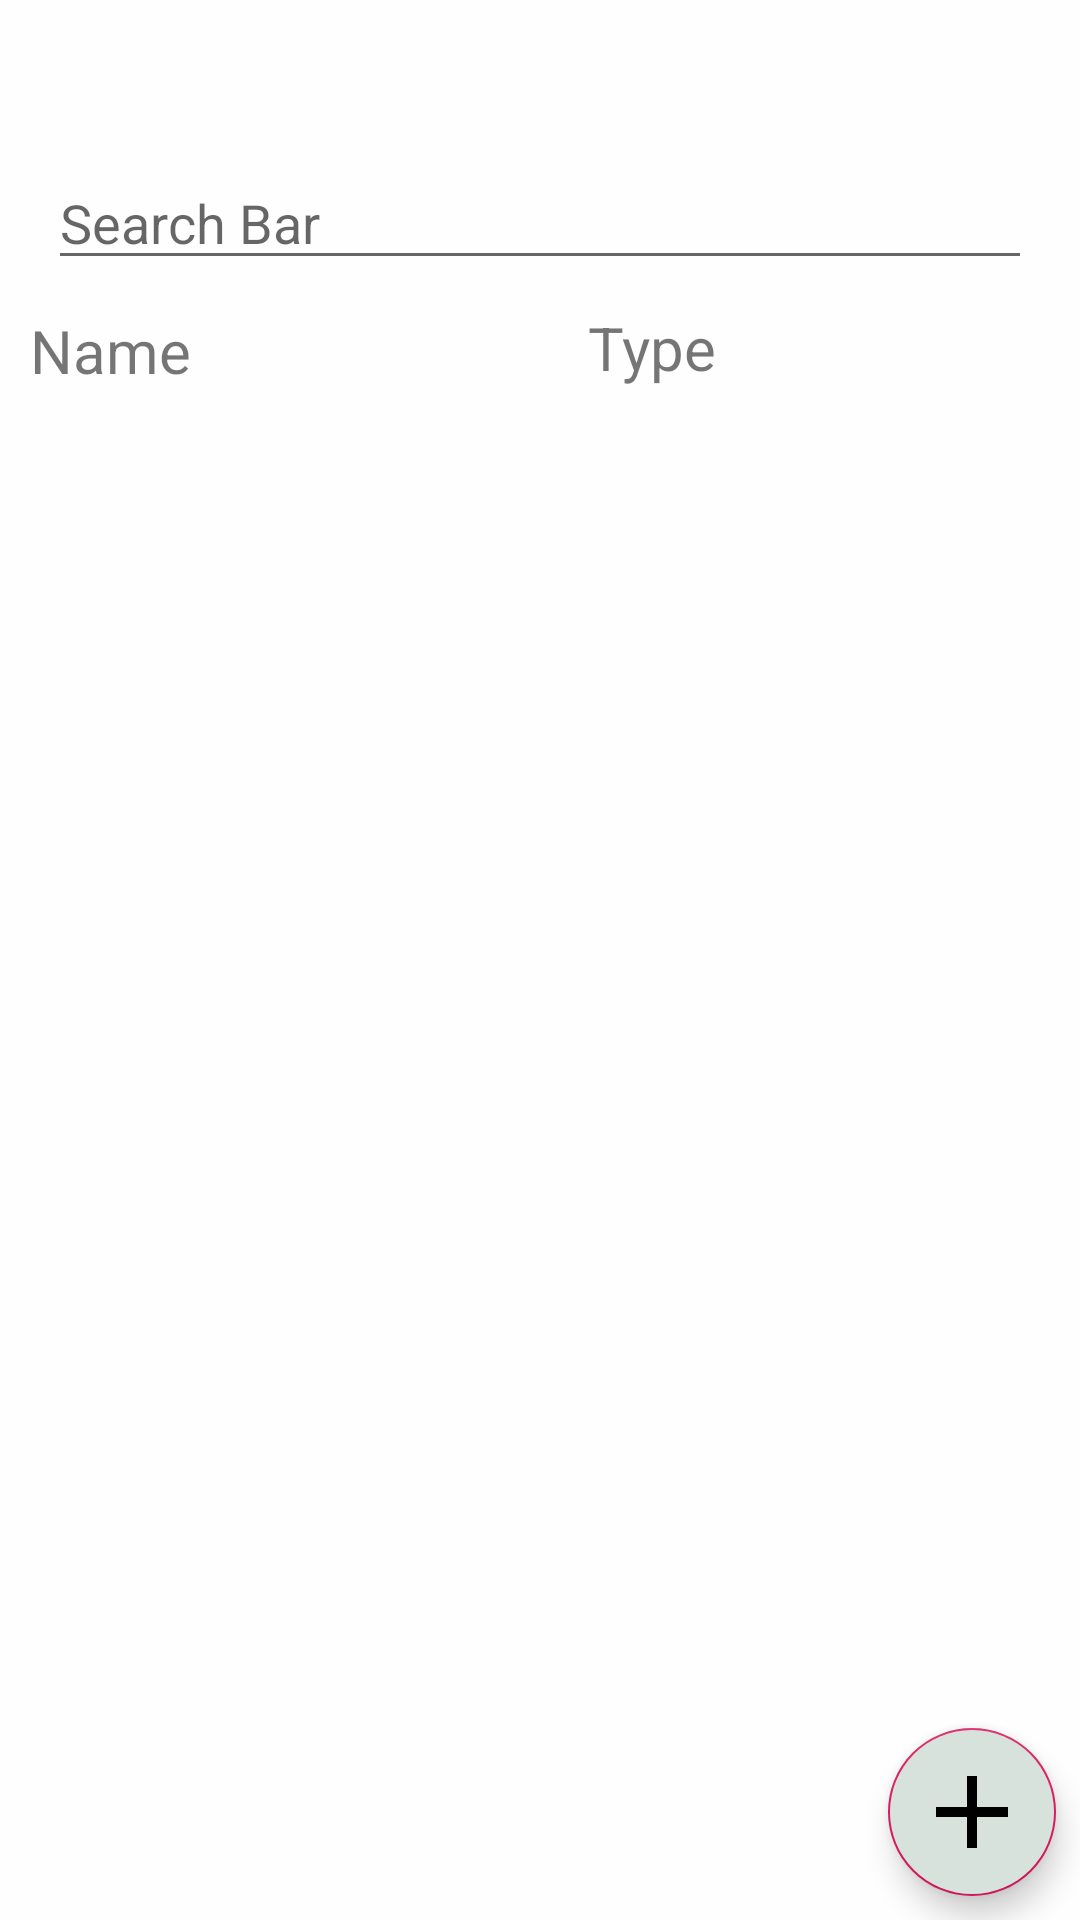

Icons on this 1080px x 1920px Android screen, each with its box as (x1, y1, x2, y2):
add: (888, 1728, 1056, 1896)
